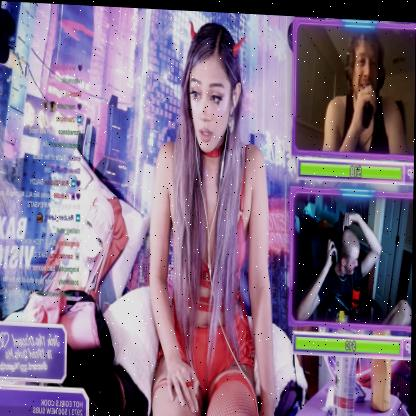streamer: (146, 16, 282, 416), (294, 204, 413, 321), (321, 21, 412, 150)
